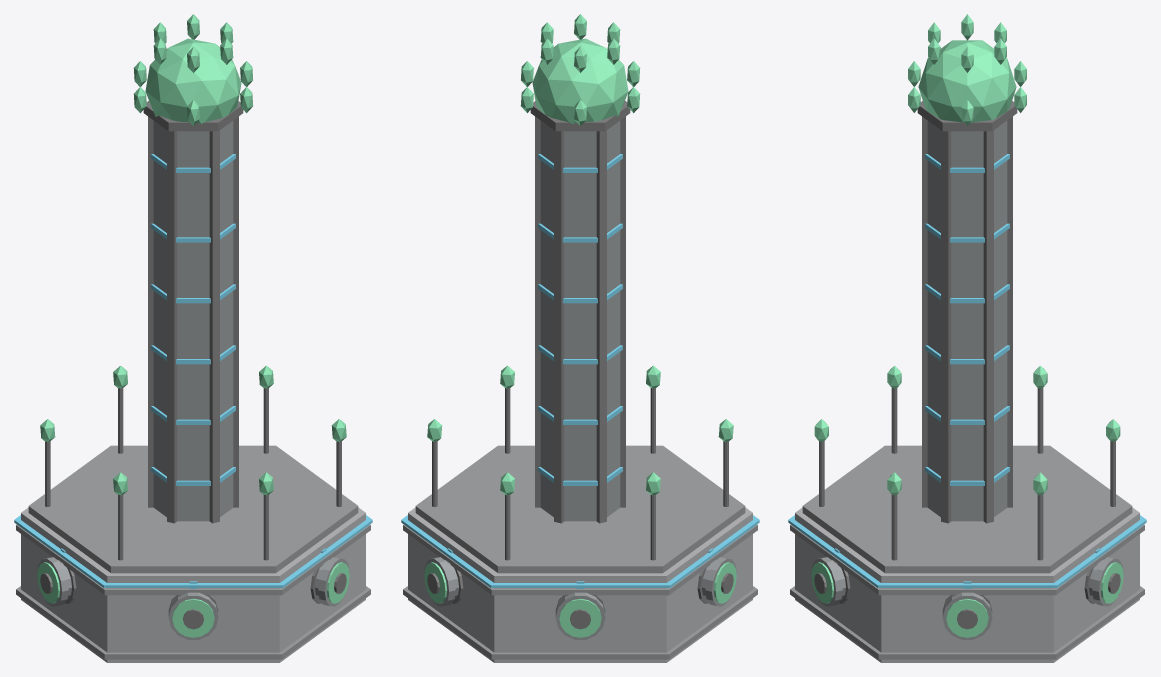
The model's file is guild_beam_s3_100.glb.
3 views of the same model, side by side, from view 1: azimuth 30°, elevation 25°; view 2: azimuth 150°, elevation 25°; view 3: azimuth 270°, elevation 25° (orthographic).
Parts seen in each view (by area): view 1: GB_BaseCap, GB_Tower, GB_Base, GB_CoreCrystal, GB_TowerStrut_3, GB_TowerStrut_4, GB_Base_BandLow, GB_Base_BandHigh, GB_Base_RuneBand, GB_TowerStrut_2, GB_TowerStrut_5, GB_TowerCap (+6 smaller); view 2: GB_BaseCap, GB_Tower, GB_Base, GB_CoreCrystal, GB_TowerStrut_1, GB_TowerStrut_2, GB_Base_BandLow, GB_Base_BandHigh, GB_Base_RuneBand, GB_TowerStrut_0, GB_TowerStrut_3, GB_TowerCap (+6 smaller); view 3: GB_BaseCap, GB_Tower, GB_Base, GB_CoreCrystal, GB_TowerStrut_0, GB_TowerStrut_5, GB_Base_BandLow, GB_Base_BandHigh, GB_Base_RuneBand, GB_TowerStrut_1, GB_TowerStrut_4, GB_TowerCap (+6 smaller).
Part boxes in pixels (box(x1,y1,x2,y2)): GB_BaseCap: box(28, 445, 358, 573); GB_Tower: box(153, 121, 233, 521); GB_Base: box(21, 507, 365, 662); GB_CoreCrystal: box(145, 38, 241, 124); GB_TowerStrut_3: box(167, 130, 177, 523); GB_TowerStrut_4: box(209, 130, 219, 523); GB_Base_BandLow: box(16, 586, 370, 659); GB_Base_BandHigh: box(16, 524, 370, 595); GB_Base_RuneBand: box(14, 515, 372, 587); GB_TowerStrut_2: box(148, 116, 153, 507); GB_TowerStrut_5: box(233, 116, 238, 507); GB_TowerCap: box(143, 101, 243, 131); GB_BaseCap: box(415, 445, 745, 573); GB_Tower: box(540, 121, 620, 521); GB_Base: box(408, 507, 752, 662); GB_CoreCrystal: box(532, 38, 628, 124); GB_TowerStrut_1: box(554, 130, 564, 523); GB_TowerStrut_2: box(596, 130, 606, 523); GB_Base_BandLow: box(403, 586, 757, 659); GB_Base_BandHigh: box(403, 524, 757, 595); GB_Base_RuneBand: box(401, 515, 759, 587); GB_TowerStrut_0: box(535, 116, 540, 507); GB_TowerStrut_3: box(620, 116, 625, 507); GB_TowerCap: box(530, 101, 630, 131); GB_BaseCap: box(802, 445, 1132, 573); GB_Tower: box(927, 121, 1007, 521); GB_Base: box(795, 507, 1139, 662); GB_CoreCrystal: box(918, 40, 1016, 122); GB_TowerStrut_0: box(983, 130, 993, 523); GB_TowerStrut_5: box(941, 130, 951, 523); GB_Base_BandLow: box(790, 586, 1144, 659); GB_Base_BandHigh: box(790, 524, 1144, 595); GB_Base_RuneBand: box(788, 515, 1146, 587); GB_TowerStrut_1: box(1007, 116, 1012, 507); GB_TowerStrut_4: box(922, 116, 927, 507); GB_TowerCap: box(917, 101, 1017, 131).
Size of the model in its own units: 1.78 by 3.28 by 1.87.
